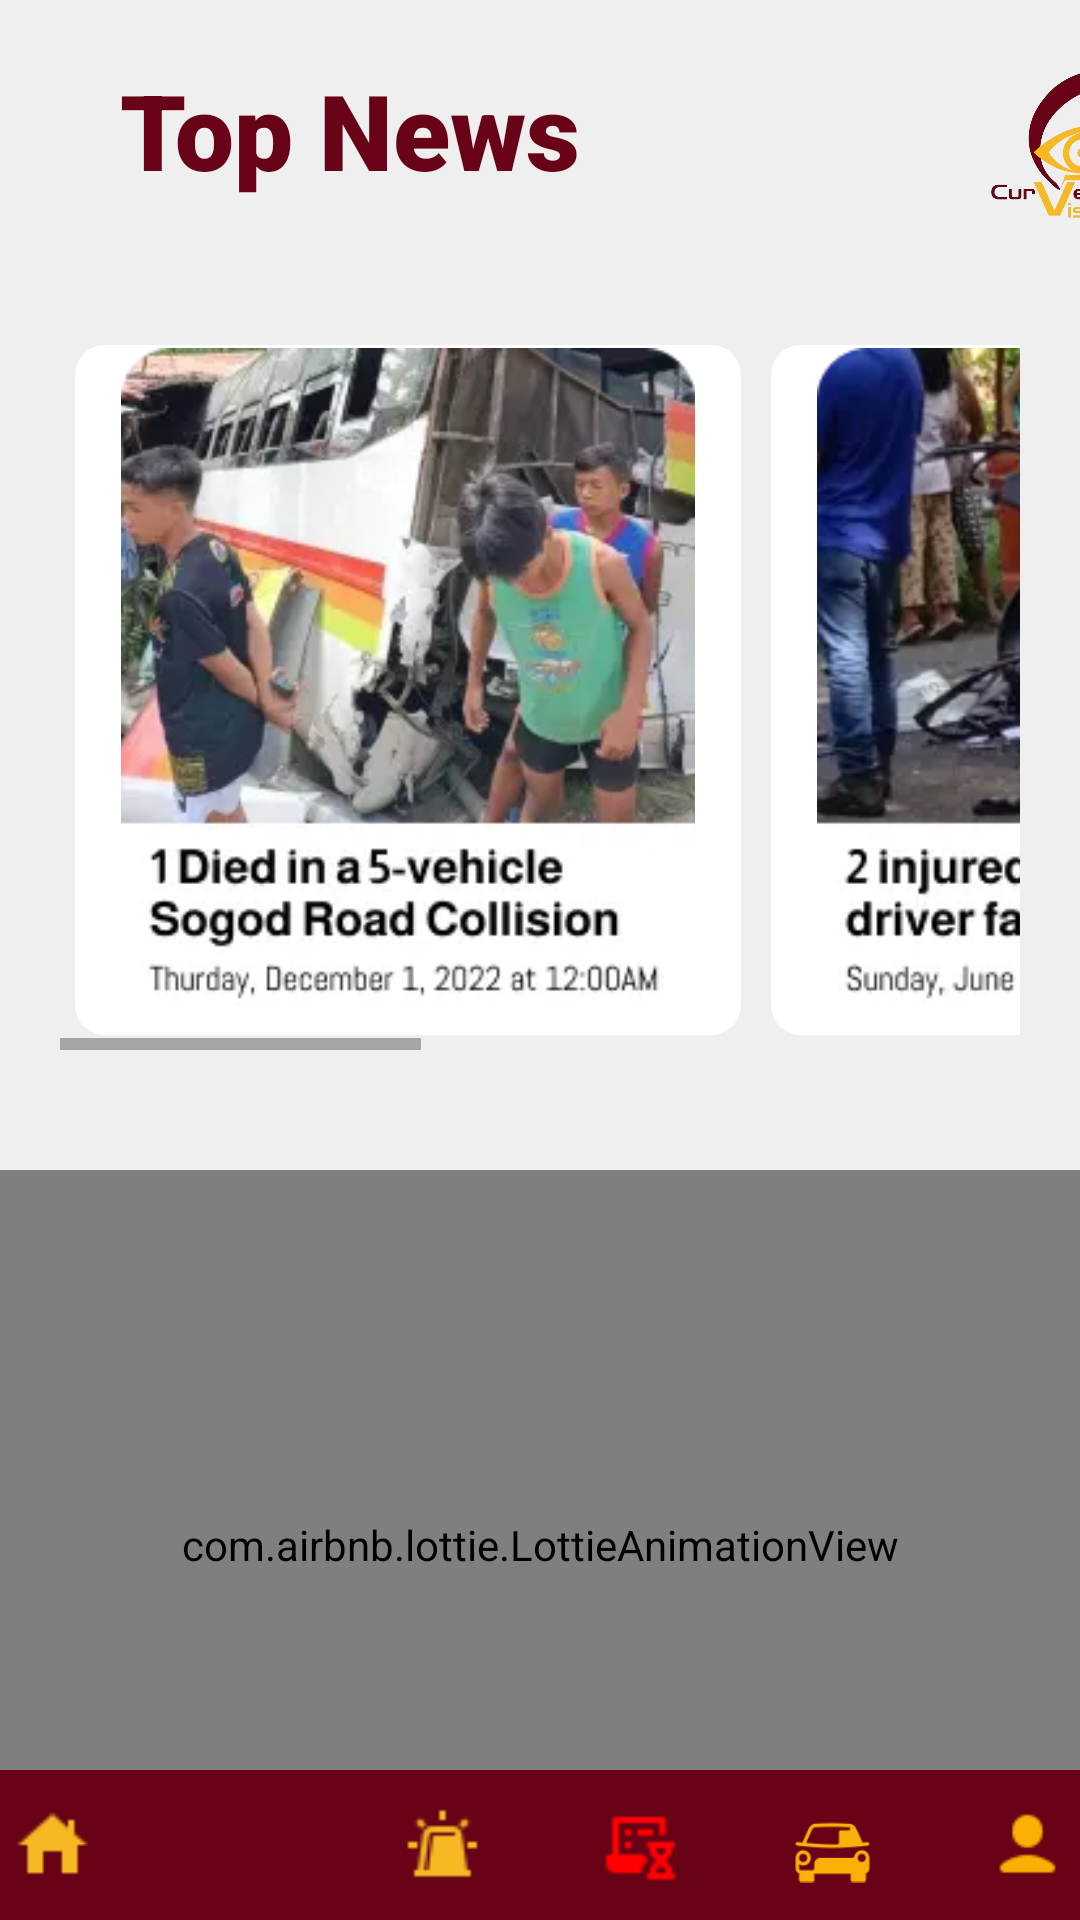

Where icons sit on this 1080 x 1920 app screen, as (x1, y1, x2, y2):
car: (795, 1822, 870, 1883)
emergency: (407, 1809, 478, 1877)
home: (18, 1813, 88, 1874)
prof: (999, 1814, 1056, 1873)
redhistory: (605, 1816, 675, 1880)
